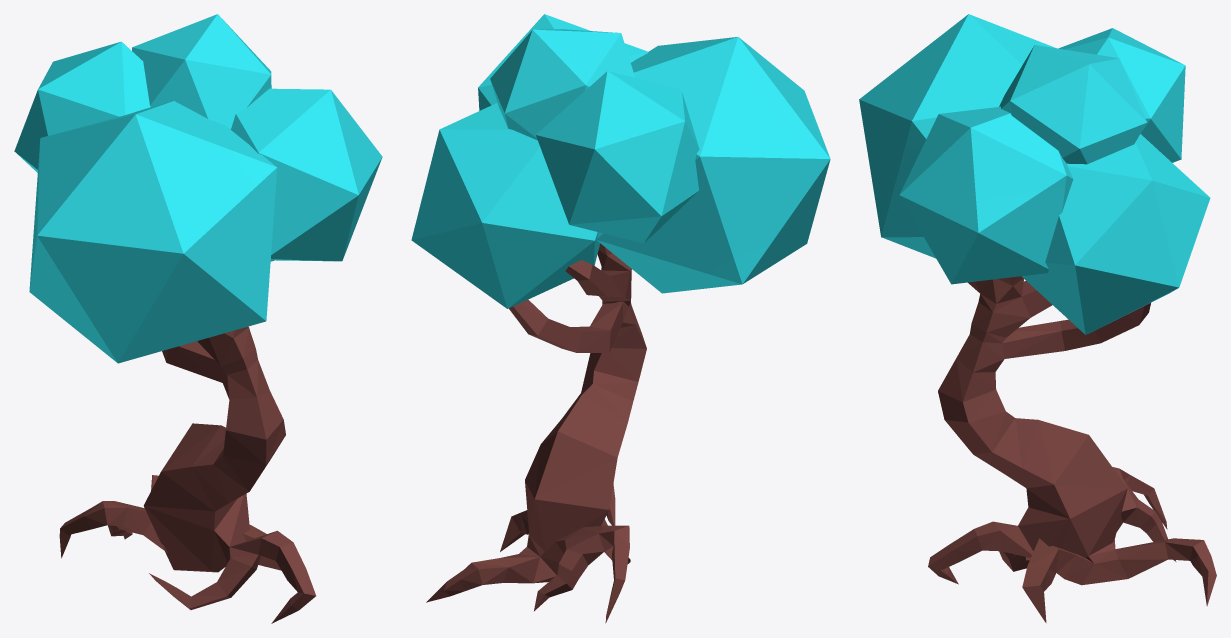
Rendered from TreePackage.fbx_Tree_016.fbx.
3 renders of one model, left to right at view 1: azimuth 30°, elevation 25°; view 2: azimuth 150°, elevation 25°; view 3: azimuth 270°, elevation 25°, orthographic. The views are drawn at different scales.
Parts seen in each view (by area): view 1: Icosphere.006, Plane.012; view 2: Icosphere.006, Plane.012; view 3: Icosphere.006, Plane.012.
Boxes of the visible parts, x1,y1,x2,y2 form: Icosphere.006: (14,14,382,363); Plane.012: (59,326,316,623); Icosphere.006: (411,14,830,308); Plane.012: (426,243,646,623); Icosphere.006: (859,14,1210,334); Plane.012: (928,276,1216,622).
Bounding box in the file's own units: 535 × 826 × 502.
